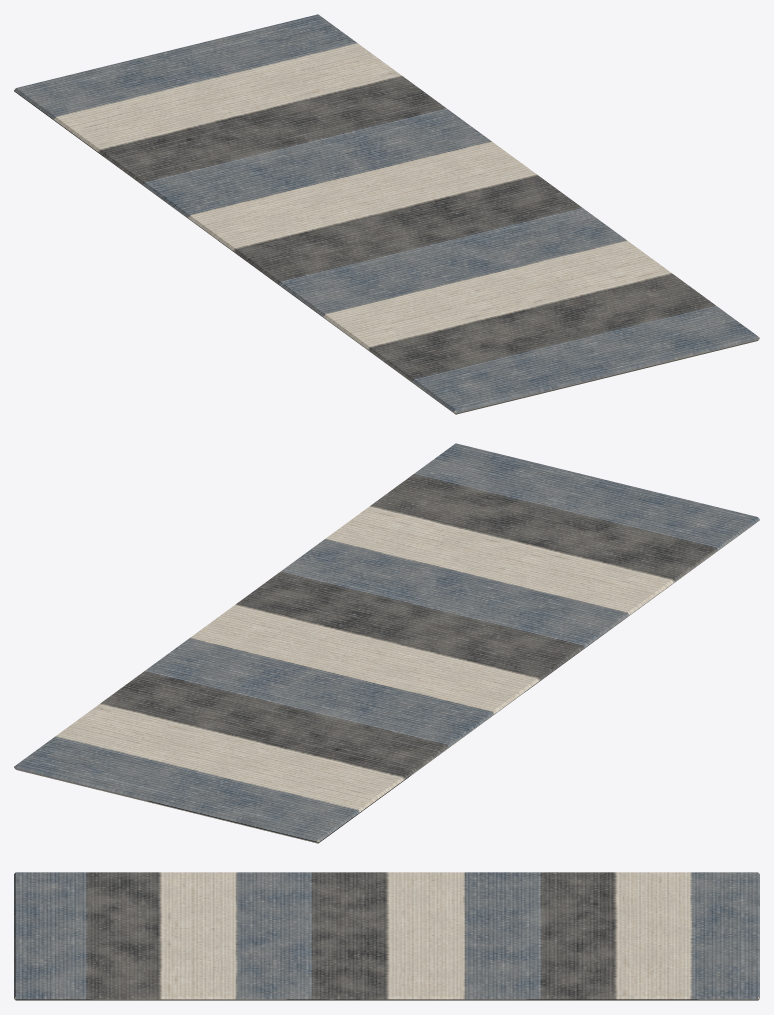
File: H_Rug_Runner.fbx
3 views of the same model, one above another, from view 1: azimuth 30°, elevation 25°; view 2: azimuth 150°, elevation 25°; view 3: azimuth 270°, elevation 25° (orthographic). The views are drawn at different scales.
Parts seen in each view (by area): view 1: H_Rug_Runner; view 2: H_Rug_Runner; view 3: H_Rug_Runner.
Boxes of the visible parts, box(x1,y1,x2,y2) form: H_Rug_Runner: box(14, 14, 759, 414); H_Rug_Runner: box(14, 443, 759, 843); H_Rug_Runner: box(14, 872, 759, 1000).
Bounding box in the file's own units: 400 × 6 × 1000.
1 material, 1 textured.
